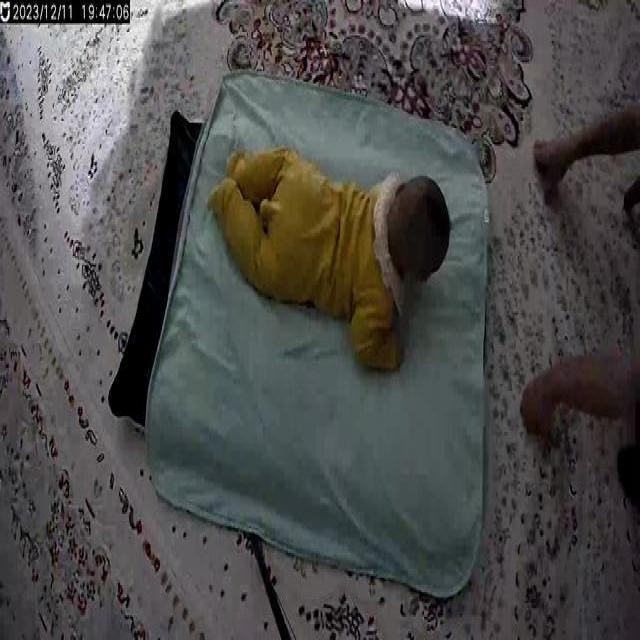baby: (208, 138, 454, 372)
